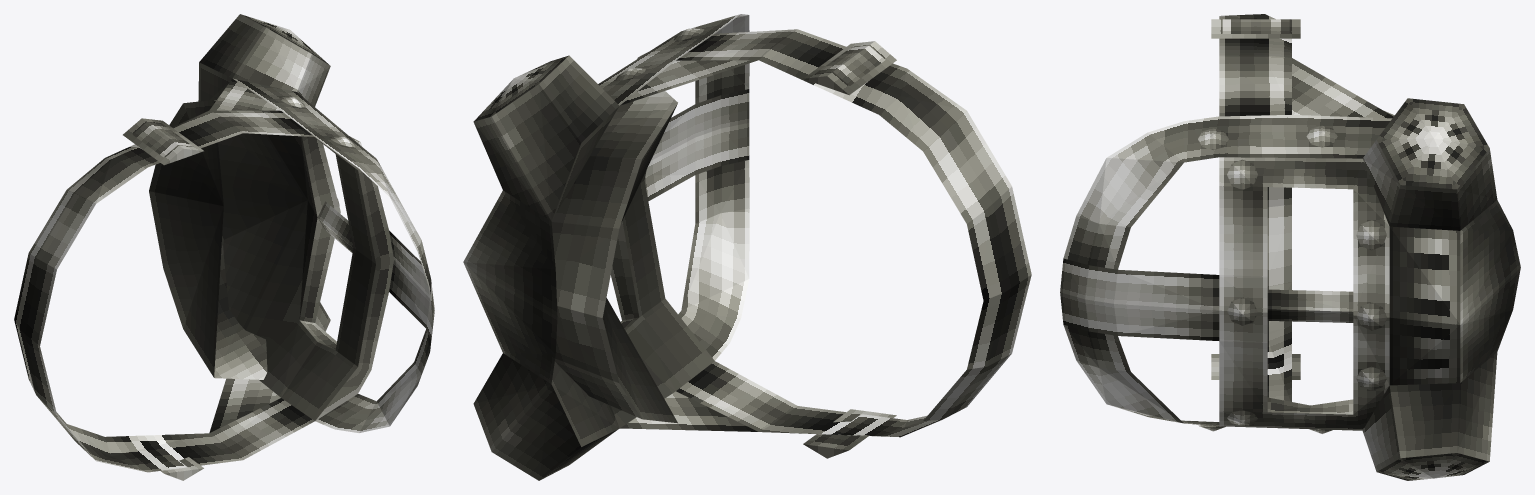
Rendered from options182.obj.
3 views of the same model, side by side, from view 1: azimuth 30°, elevation 25°; view 2: azimuth 150°, elevation 25°; view 3: azimuth 270°, elevation 25° (orthographic). The views are drawn at different scales.
Parts seen in each view (by area): view 1: options182; view 2: options182; view 3: options182.
Part boxes in pixels (x1,y1,x2,y2): options182: (14,14,434,480); options182: (463,14,1031,480); options182: (1060,14,1520,480).
Bounding box in the file's own units: 0.439 × 0.3913 × 0.427.
1 material, 1 textured.
